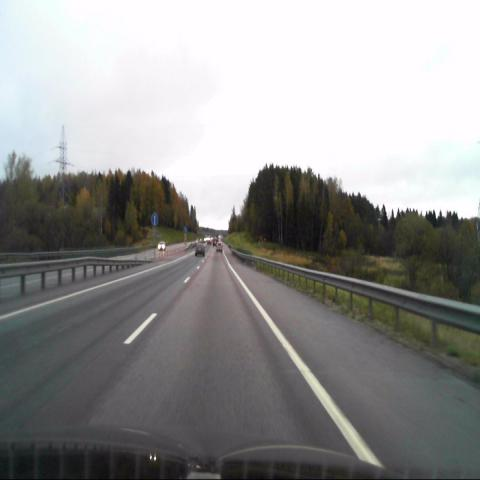4_1_1: (150, 213, 159, 226)
